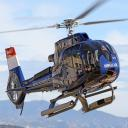helicopter: (1, 5, 126, 119)
